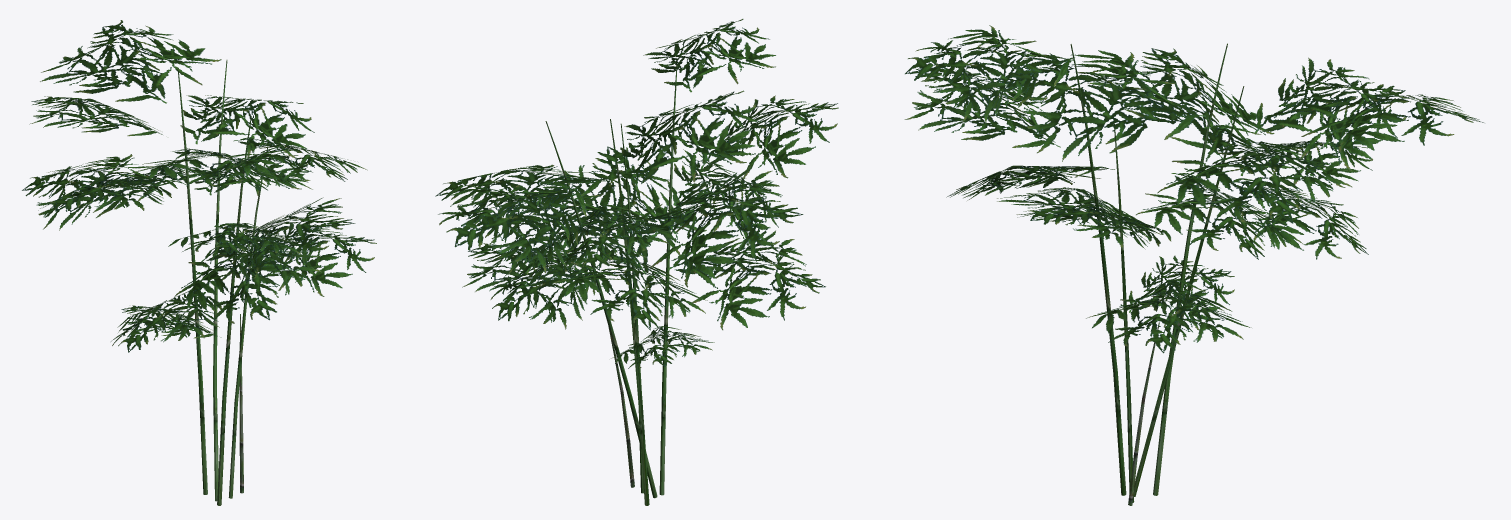
The model's file is a_zhiwu_014.fbx.
The picture shows the model from 3 angles, left to right: view 1: azimuth 30°, elevation 25°; view 2: azimuth 150°, elevation 25°; view 3: azimuth 270°, elevation 25°; orthographic projection. The views are drawn at different scales.
Parts seen in each view (by area): view 1: a_zhiwu_014; view 2: a_zhiwu_014; view 3: a_zhiwu_014.
Boxes of the visible parts, left/top/right/bottom form: a_zhiwu_014: left=22, top=20, right=376, bottom=505; a_zhiwu_014: left=435, top=19, right=838, bottom=505; a_zhiwu_014: left=904, top=25, right=1483, bottom=505.
Bounding box in the file's own units: 5.3 × 5.79 × 7.02.
